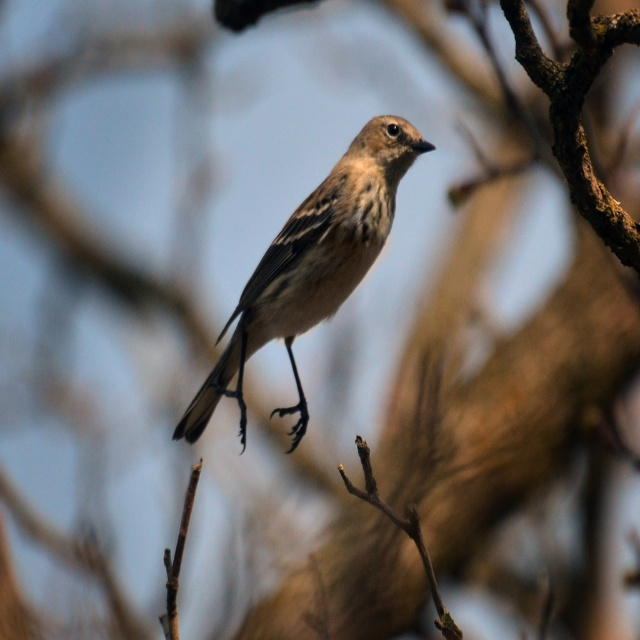Sparrow: (172, 114, 436, 456)
